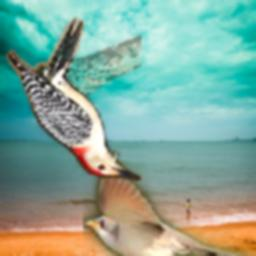Cuckoo: (83, 160, 256, 256)
Woodpecker: (4, 18, 141, 182)
